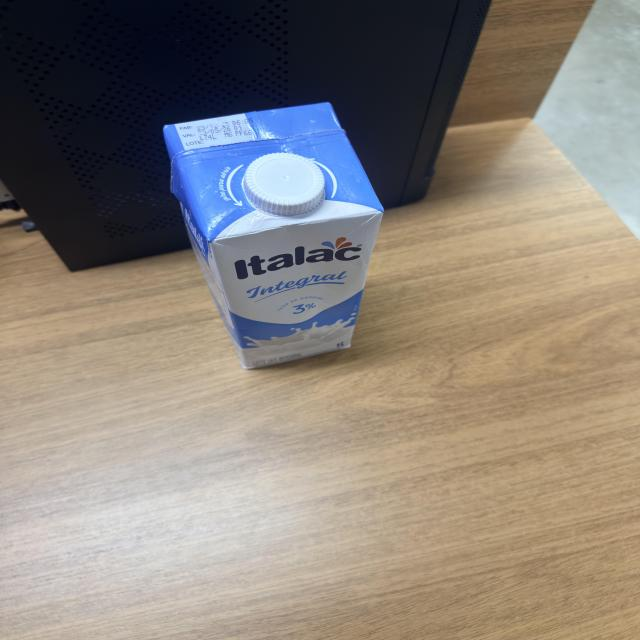Caixa de Leite: (162, 103, 386, 366)
